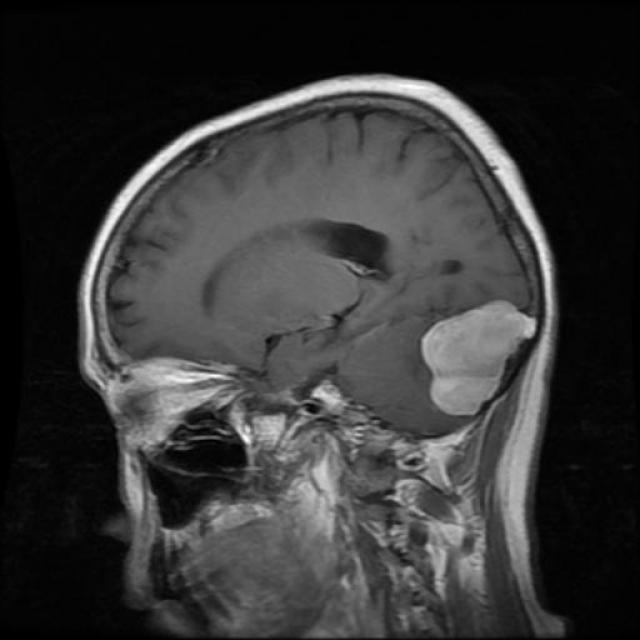meningioma: (420, 300, 535, 418)
